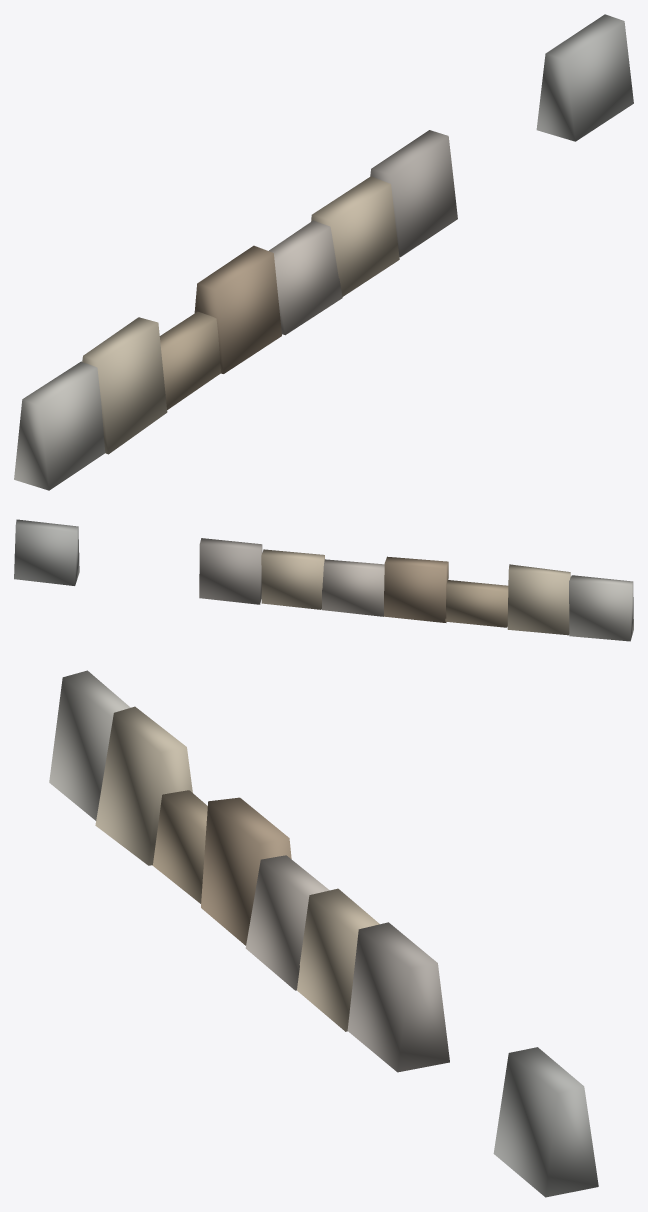
Rendered from farm_22_21_far.glb.
3 views of the same model, one above another, from view 1: azimuth 30°, elevation 25°; view 2: azimuth 150°, elevation 25°; view 3: azimuth 270°, elevation 25° (orthographic). The views are drawn at different scales.
Visible parts, largest first — view 1: geometry_0; view 2: geometry_0; view 3: geometry_0.
Boxes of the visible parts, x1=… form: geometry_0: x1=14, y1=14, x2=633, y2=490; geometry_0: x1=14, y1=519, x2=633, y2=641; geometry_0: x1=49, y1=670, x2=598, y2=1197.
Bounding box in the file's own units: 14.14 × 2.28 × 6.7.
